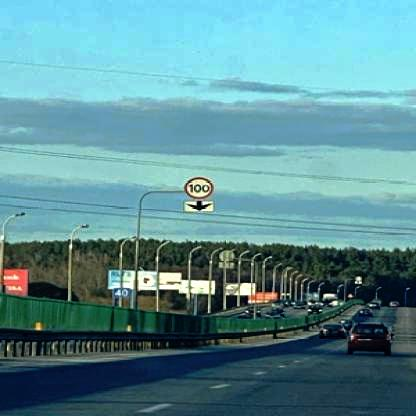Speed Limit -100-: (184, 175, 215, 198)
